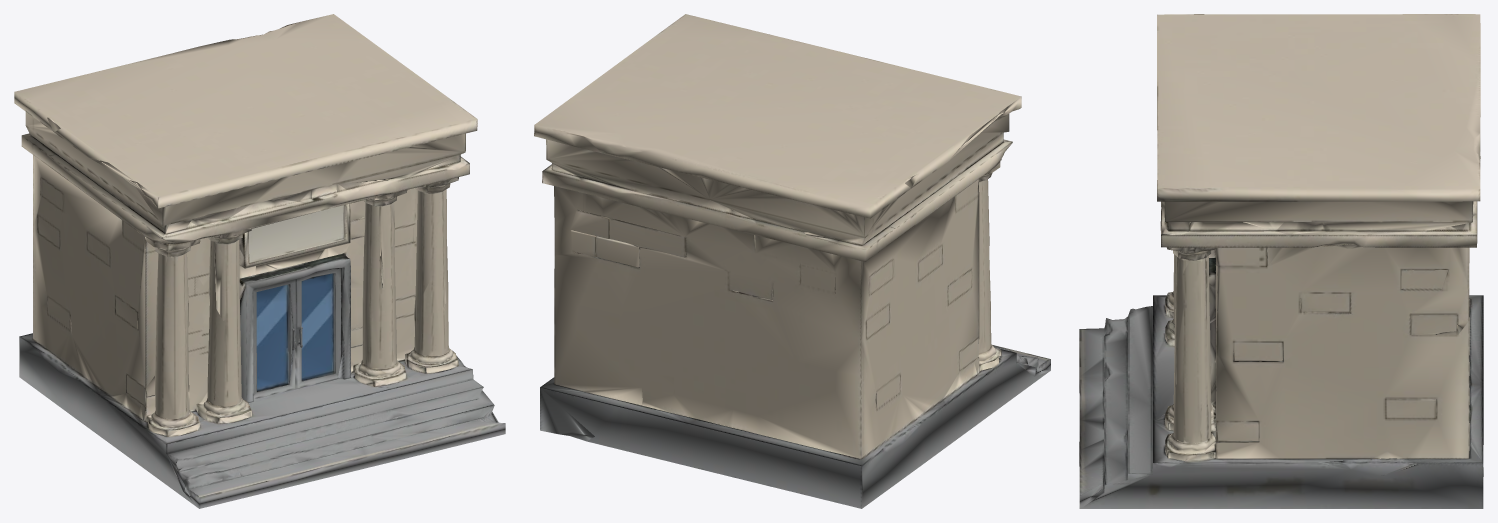
Rendered from bank.glb.
3 views of the same model, side by side, from view 1: azimuth 30°, elevation 25°; view 2: azimuth 150°, elevation 25°; view 3: azimuth 270°, elevation 25° (orthographic). The views are drawn at different scales.
Bounding box in the file's own units: 1.9 × 1.64 × 1.85.
1 material, 1 textured.
